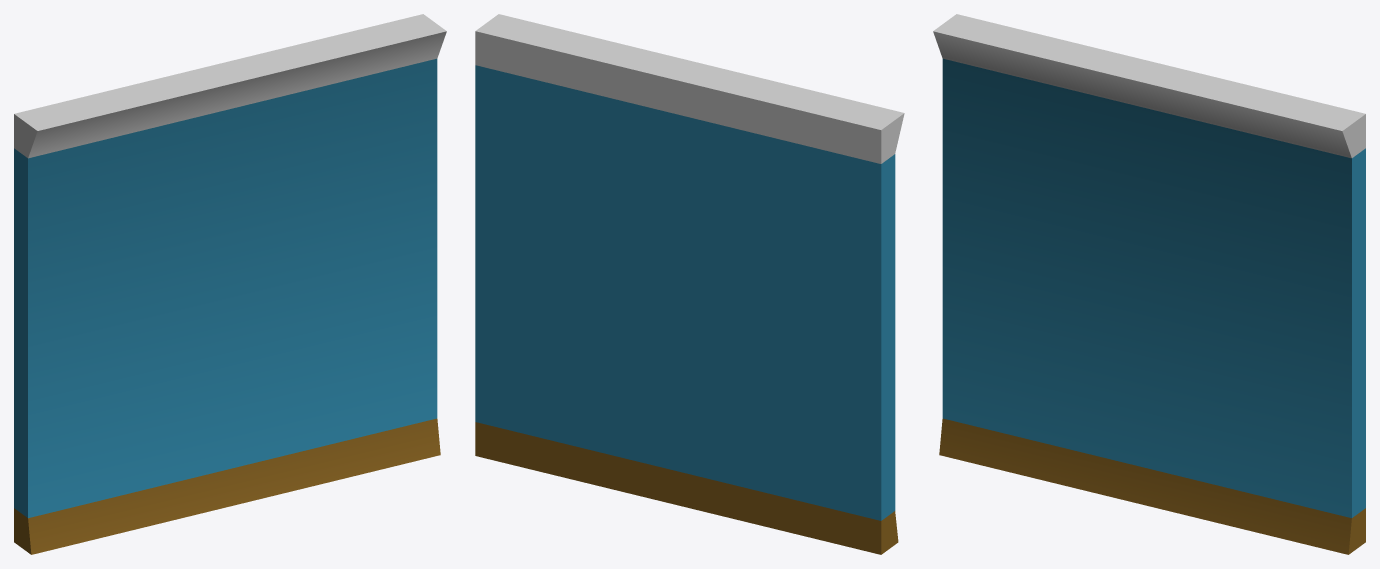
Rendered from WallBlank.fbx.
The picture shows the model from 3 angles, left to right: view 1: azimuth 30°, elevation 25°; view 2: azimuth 150°, elevation 25°; view 3: azimuth 330°, elevation 25°; orthographic projection.
Parts seen in each view (by area): view 1: WallBlank; view 2: WallBlank; view 3: WallBlank.
Part boxes in pixels (left/top/right/bottom): WallBlank: left=14, top=14, right=446, bottom=554; WallBlank: left=475, top=14, right=904, bottom=554; WallBlank: left=933, top=14, right=1365, bottom=554.
Bounding box in the file's own units: 200 × 200 × 20.
